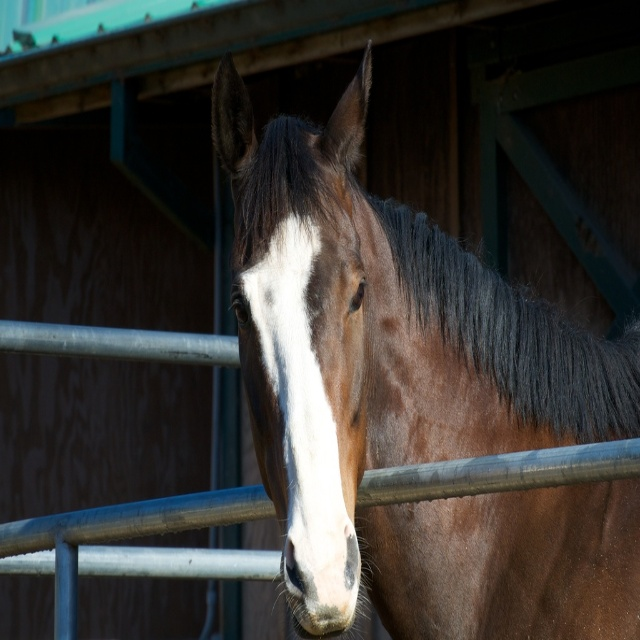Horse: (209, 37, 640, 640)
